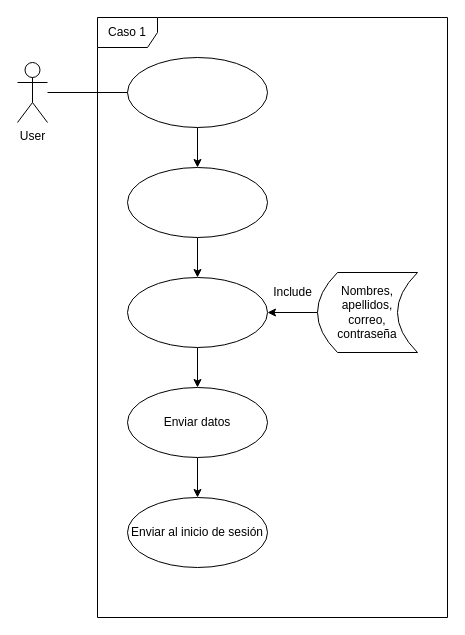
Image size: 465x635. Some labels were removed from this diagram. Each missing label, with the centre of its shape:
"Darle al botón de registro" belongs at pixel 197 202.
"Ingresar datos de registro" belongs at pixel 197 312.
"Registro de usuario" belongs at pixel 197 92.
